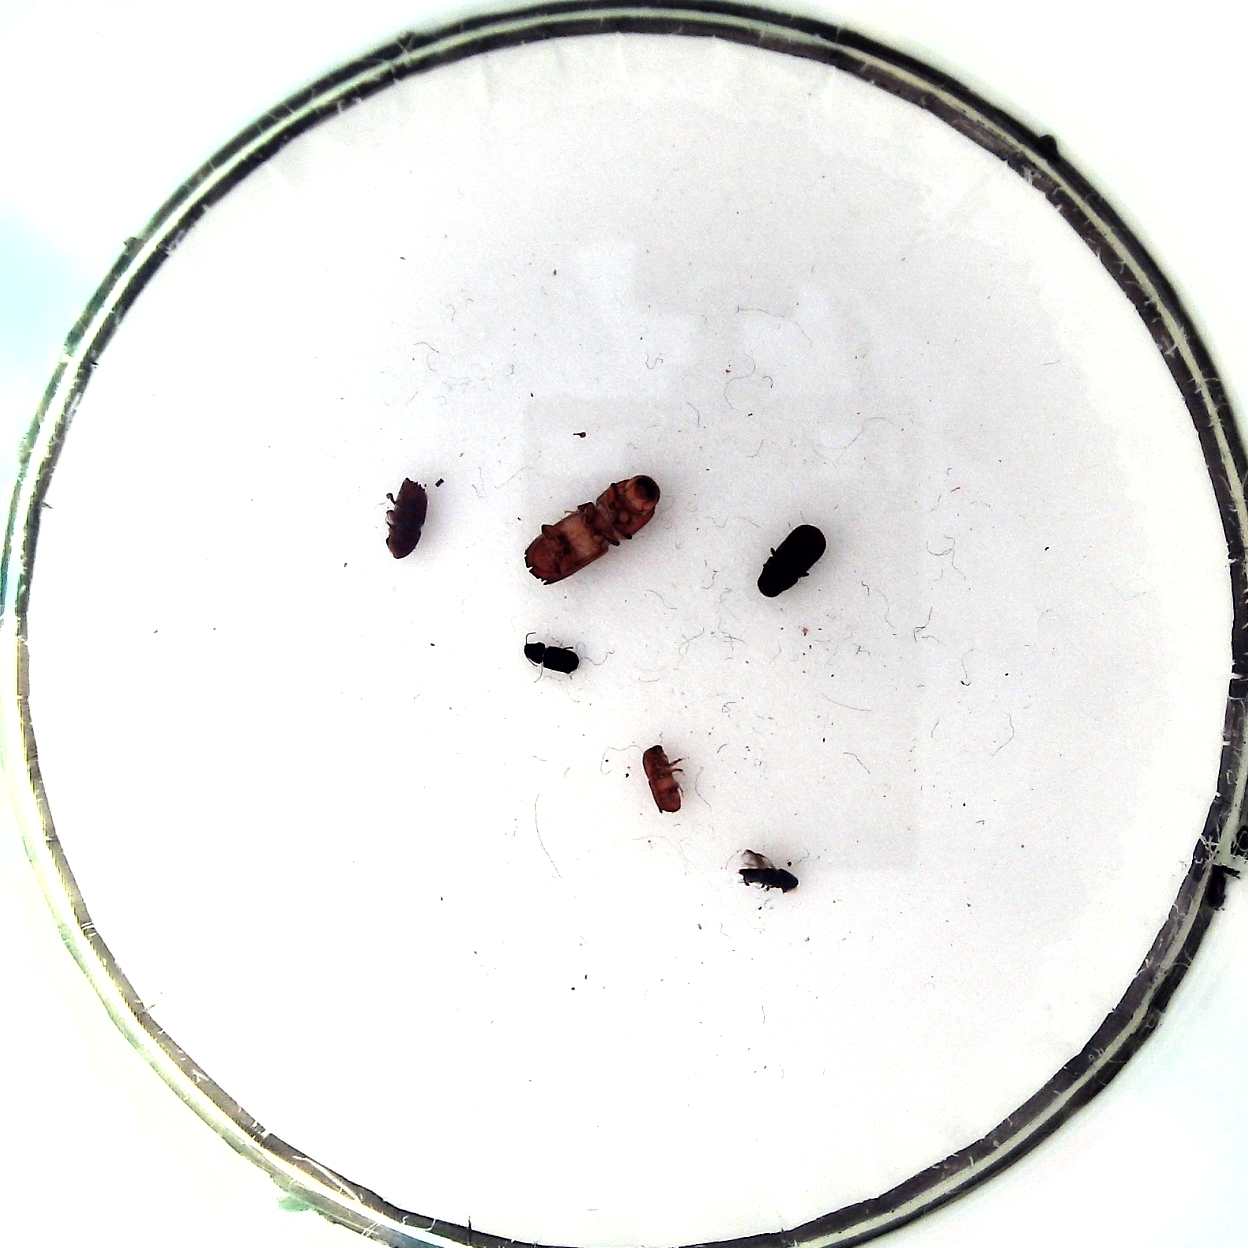Boerner: (523, 474, 661, 585)
acuminatus: (523, 641, 579, 675), (739, 866, 799, 893)
armandi: (757, 525, 826, 598)
coleoptera: (642, 744, 681, 813)
linnaeus: (387, 478, 427, 560)
